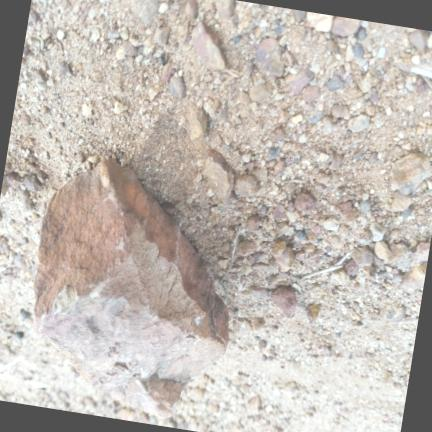Rocks: (34, 159, 229, 417), (192, 20, 225, 69), (392, 152, 431, 193), (204, 149, 234, 197), (257, 37, 284, 76), (271, 285, 297, 317), (271, 239, 296, 270), (127, 0, 159, 23), (285, 69, 313, 93), (375, 240, 407, 261), (402, 263, 426, 290), (190, 107, 207, 139), (332, 16, 360, 35), (307, 12, 334, 31), (236, 173, 258, 196), (380, 303, 406, 322), (390, 190, 412, 211), (359, 69, 380, 91), (250, 82, 273, 102), (352, 245, 373, 266), (295, 191, 316, 211), (348, 113, 370, 132), (169, 73, 186, 97), (409, 29, 428, 49), (410, 241, 430, 260), (19, 187, 35, 210), (217, 0, 236, 18), (24, 173, 42, 191), (154, 25, 170, 45), (370, 221, 385, 241), (375, 240, 390, 260), (120, 39, 138, 55), (270, 126, 286, 144), (337, 200, 353, 218), (327, 74, 344, 90), (239, 239, 256, 255), (305, 304, 321, 321), (303, 85, 320, 101), (246, 395, 261, 413), (249, 285, 268, 299), (162, 61, 175, 81), (332, 267, 348, 283), (246, 215, 262, 231), (332, 103, 349, 117), (329, 153, 343, 169), (323, 216, 339, 230), (119, 407, 136, 420), (277, 221, 294, 234), (186, 0, 198, 18), (322, 115, 334, 133), (250, 316, 265, 330), (273, 203, 286, 219), (330, 234, 344, 248), (363, 263, 377, 277), (6, 172, 21, 185), (345, 259, 358, 274), (60, 61, 73, 75), (192, 386, 205, 400), (1, 174, 9, 195), (316, 344, 331, 355), (327, 38, 339, 51), (84, 396, 96, 409), (293, 10, 307, 21), (353, 43, 364, 57), (359, 199, 371, 211), (357, 26, 367, 40), (36, 171, 47, 183), (114, 100, 124, 113), (20, 308, 31, 318), (369, 151, 378, 163), (57, 28, 65, 39), (0, 210, 2, 221), (100, 0, 110, 2)
